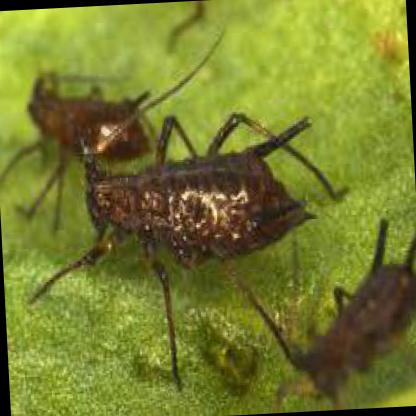uroleucon compositae: (71, 112, 311, 279)
